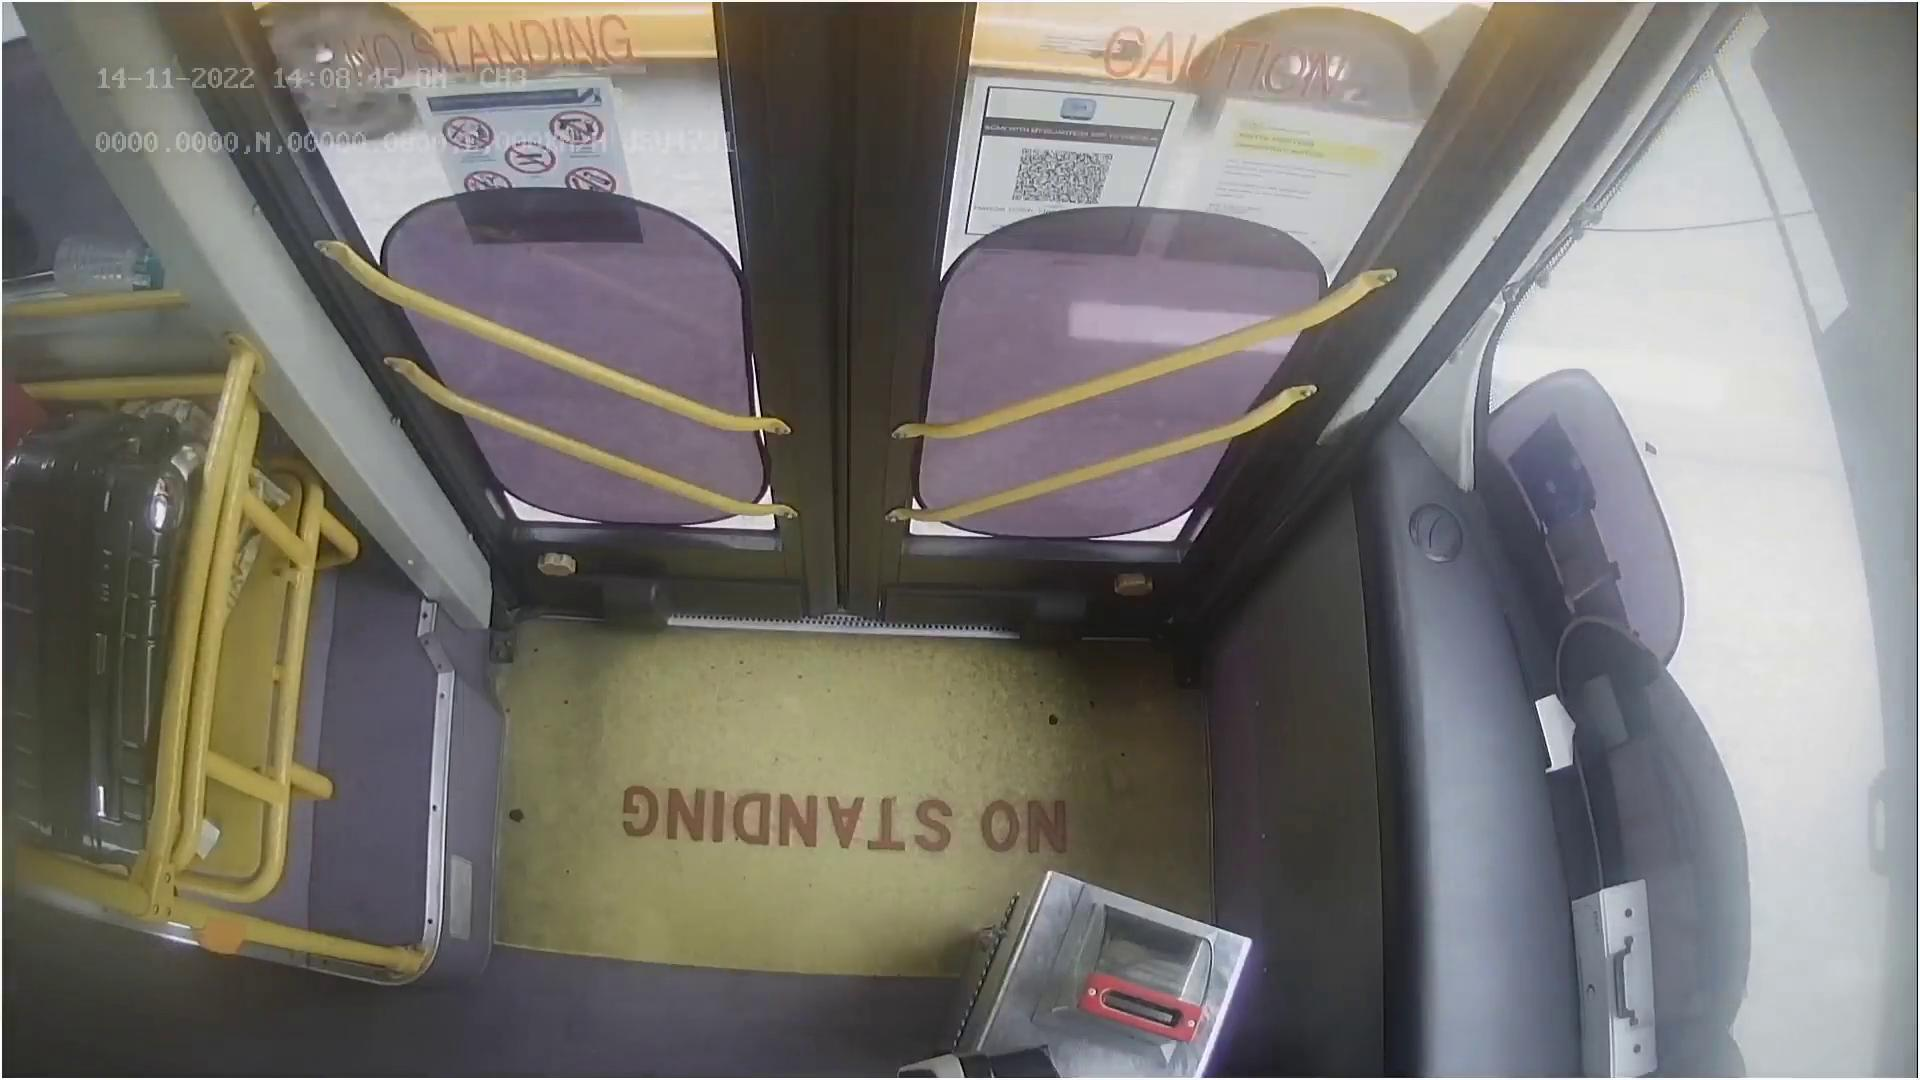close: (280, 0, 1429, 178)
